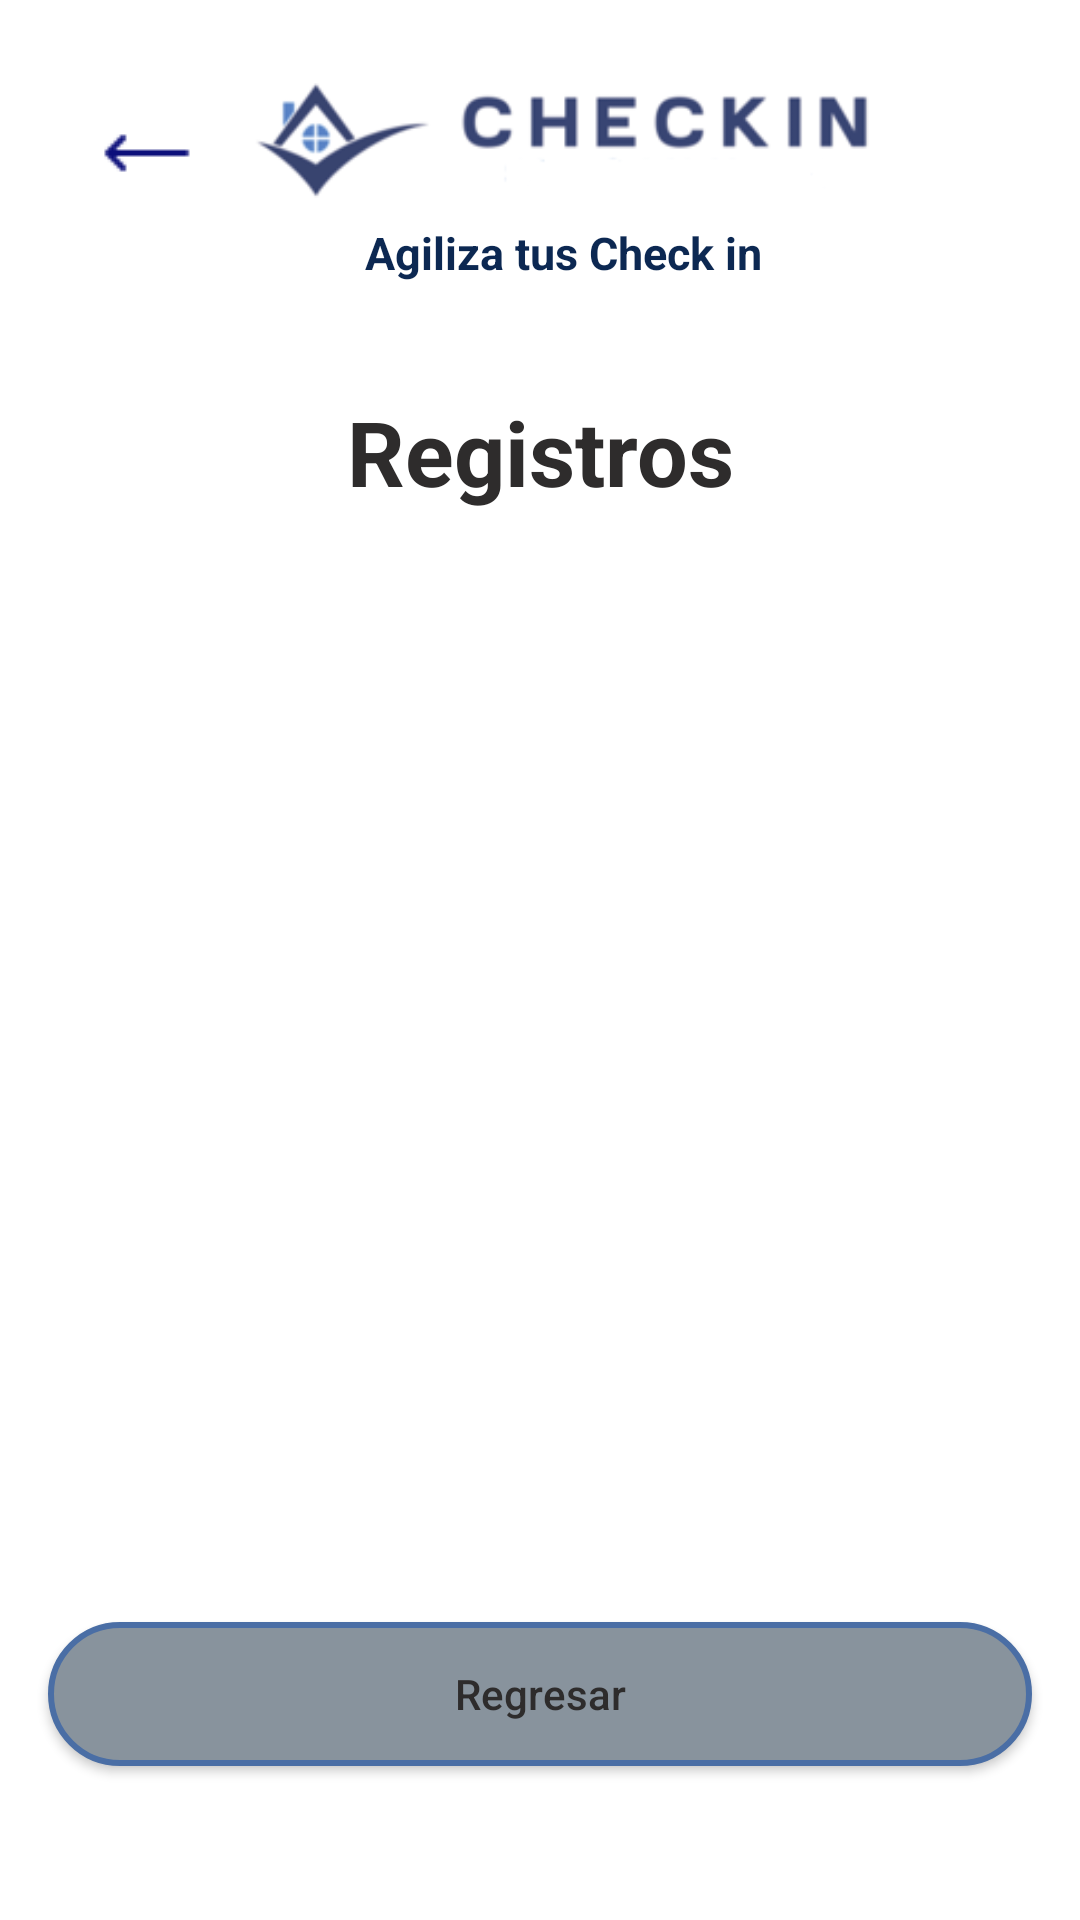

Named icons in this screenshot (1080×1920) and their bounding boxes, [x1=x1, y1=y1, x2=x2, y2=y2]:
atras: [x1=104, y1=134, x2=190, y2=172]
